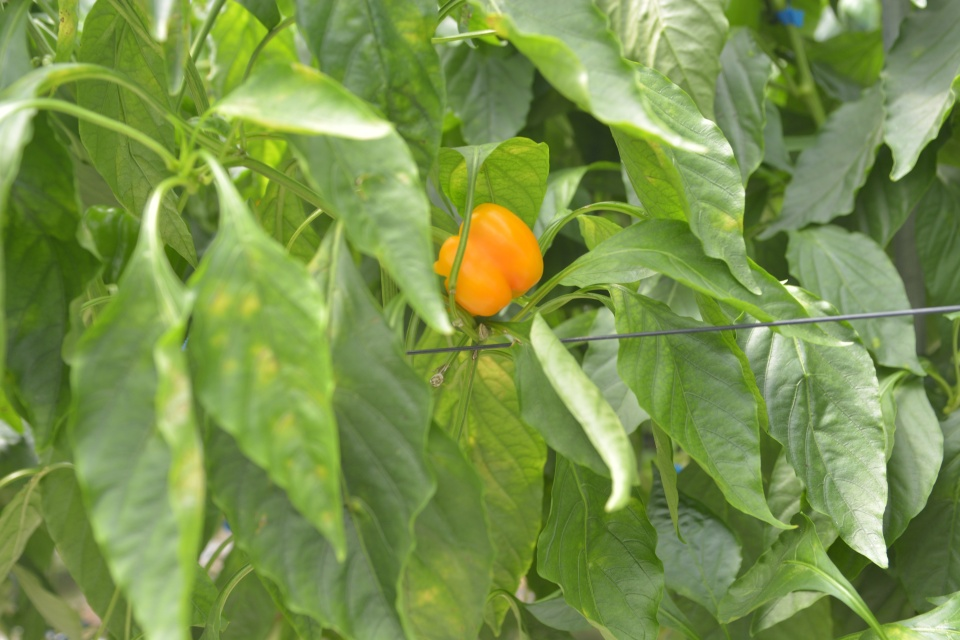fruit: (430, 199, 545, 318), (78, 202, 190, 296)
